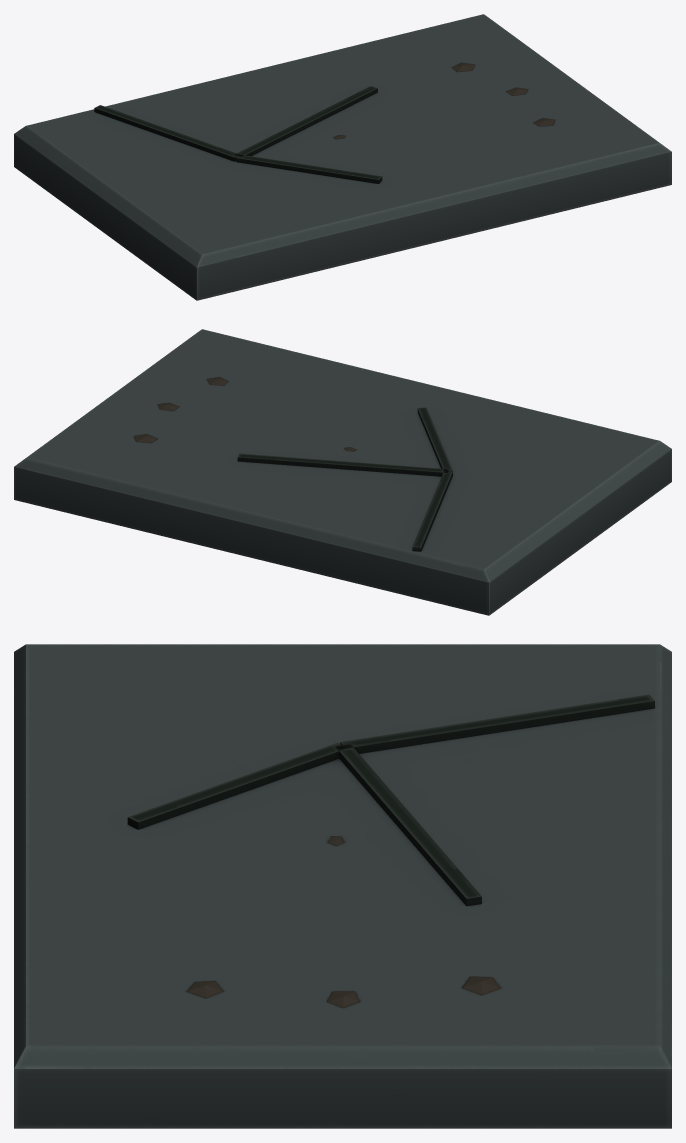
File: sign_ogre_print.glb
The picture shows the model from 3 angles, top to bottom: view 1: azimuth 30°, elevation 25°; view 2: azimuth 150°, elevation 25°; view 3: azimuth 270°, elevation 25°; orthographic projection. The views are drawn at different scales.
Visible parts, largest first — view 1: sign_ogre_print; view 2: sign_ogre_print; view 3: sign_ogre_print.
Part boxes in pixels (x1,y1,x2,y2): sign_ogre_print: [14, 14, 671, 300]; sign_ogre_print: [14, 329, 671, 615]; sign_ogre_print: [14, 644, 671, 1128].
Size of the model in its own units: 1.8 by 0.165 by 1.2.
Materials: 1 (1 with a texture image).
